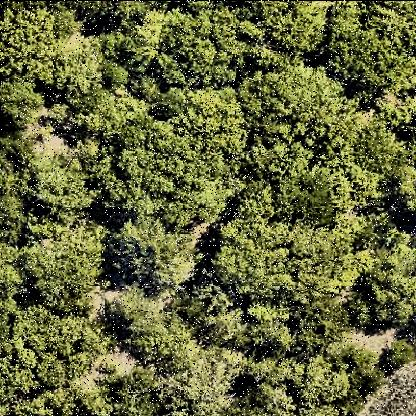tree-top: (97, 125, 231, 226), (214, 221, 362, 303), (21, 218, 107, 321), (245, 57, 343, 145), (8, 304, 98, 393), (158, 6, 244, 92), (326, 2, 412, 88), (108, 218, 208, 289), (303, 331, 375, 416), (1, 1, 82, 73), (366, 240, 416, 333), (29, 149, 95, 215), (107, 285, 171, 350), (230, 138, 312, 186), (1, 139, 33, 244), (274, 168, 340, 218), (172, 363, 233, 416), (350, 116, 404, 169), (114, 366, 166, 416), (246, 304, 296, 356), (1, 77, 47, 131), (241, 383, 293, 416), (224, 184, 268, 219), (394, 164, 416, 216), (385, 336, 415, 372)
